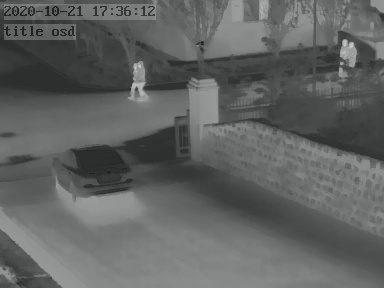person: (127, 59, 147, 100), (336, 38, 349, 76), (347, 39, 361, 74)
vehicle: (54, 143, 133, 201)
